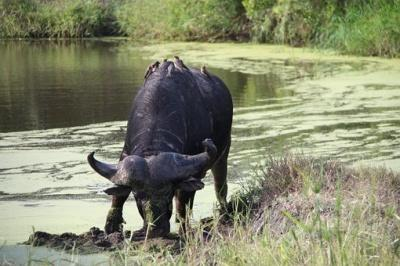buffalo: (88, 56, 231, 236)
